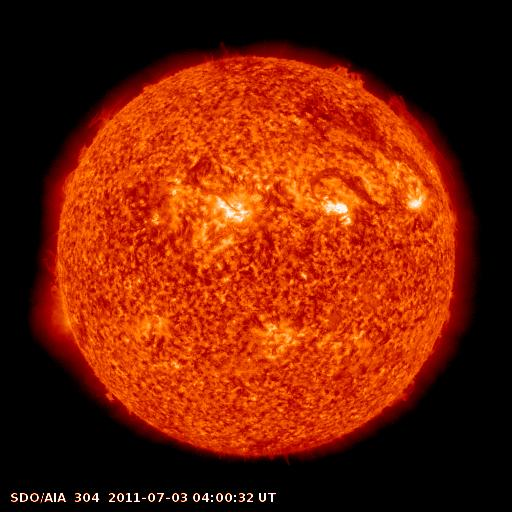prominence: (51, 93, 120, 193), (386, 91, 447, 175), (320, 53, 375, 93), (94, 381, 122, 408)
